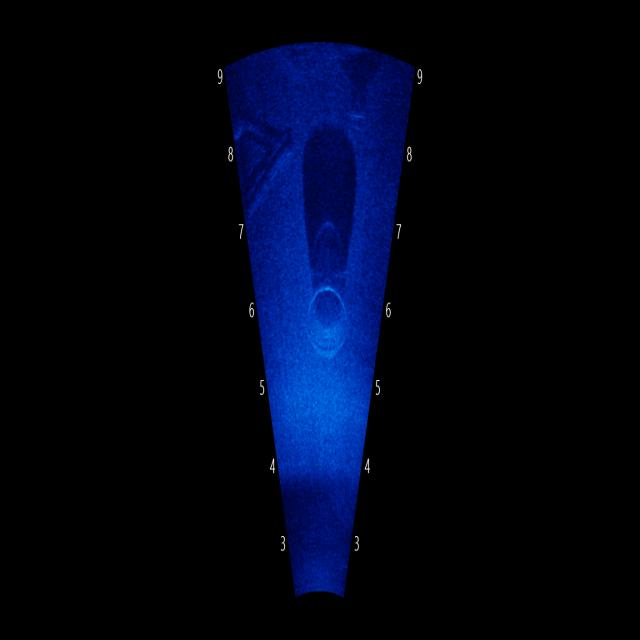circle: (294, 251, 356, 379)
